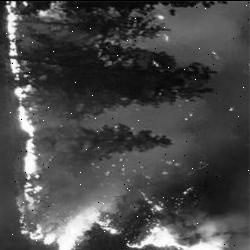fire: (13, 202, 231, 250), (3, 1, 38, 200)
